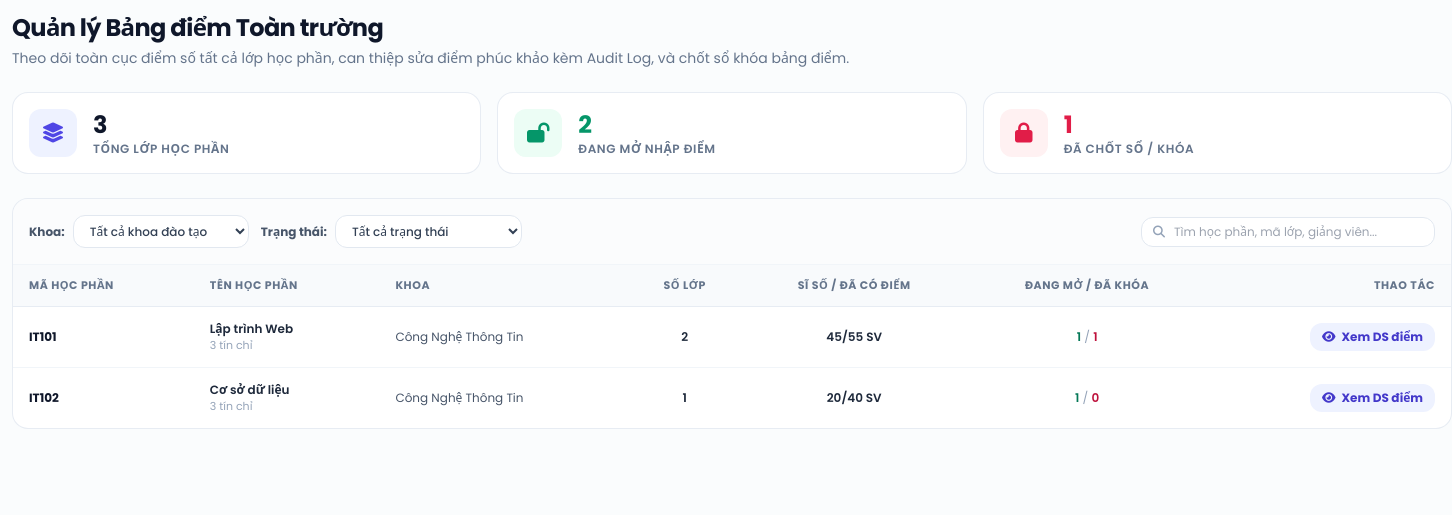
Scenario: ManageGradebook (Admin Gradebook Management) › shows courses first, then only the selected course classes
The image size is (1452, 515).
Expected: the heading "Quản lý Bảng điểm Toàn trường" is shown, [12,11,383,44]
Expected: the text "IT101" is shown, [13,306,194,367]
Click the button with aria-label "Xem DS điểm Lập trình Web". click: (1372, 336)
box: [1310,322,1435,350]
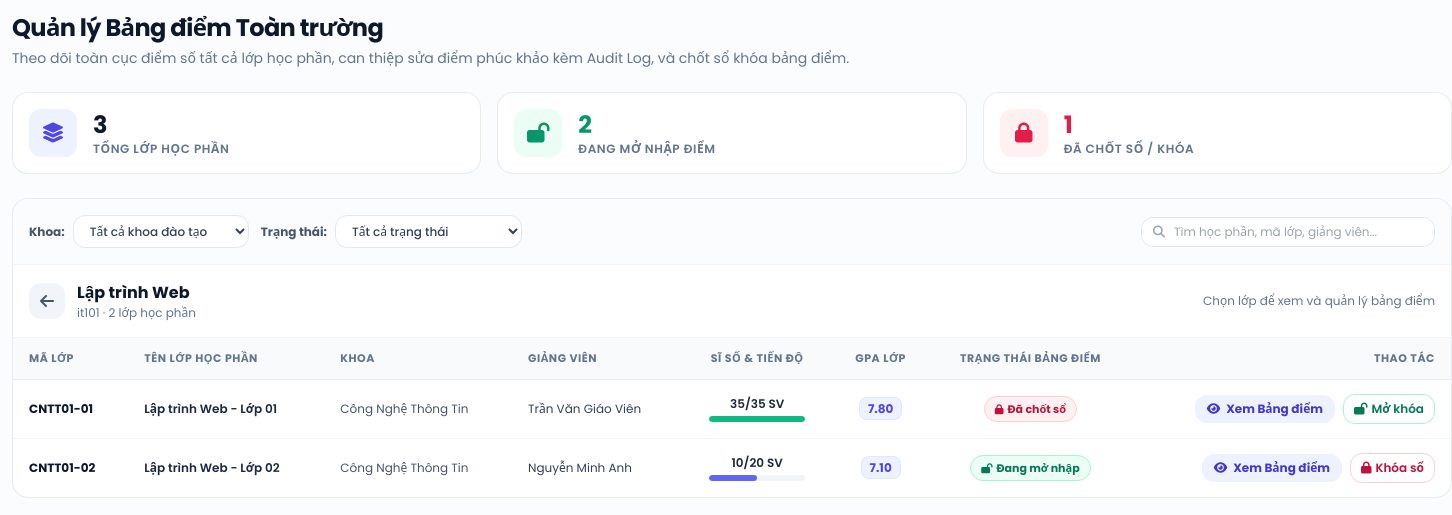
Expected: the text "it101 · 2 lớp học phần" is shown, [77,305,196,321]
Expected: the text "CNTT01-01" is shown, [13,379,128,438]
Expected: the text "CNTT01-02" is shown, [13,438,128,496]
